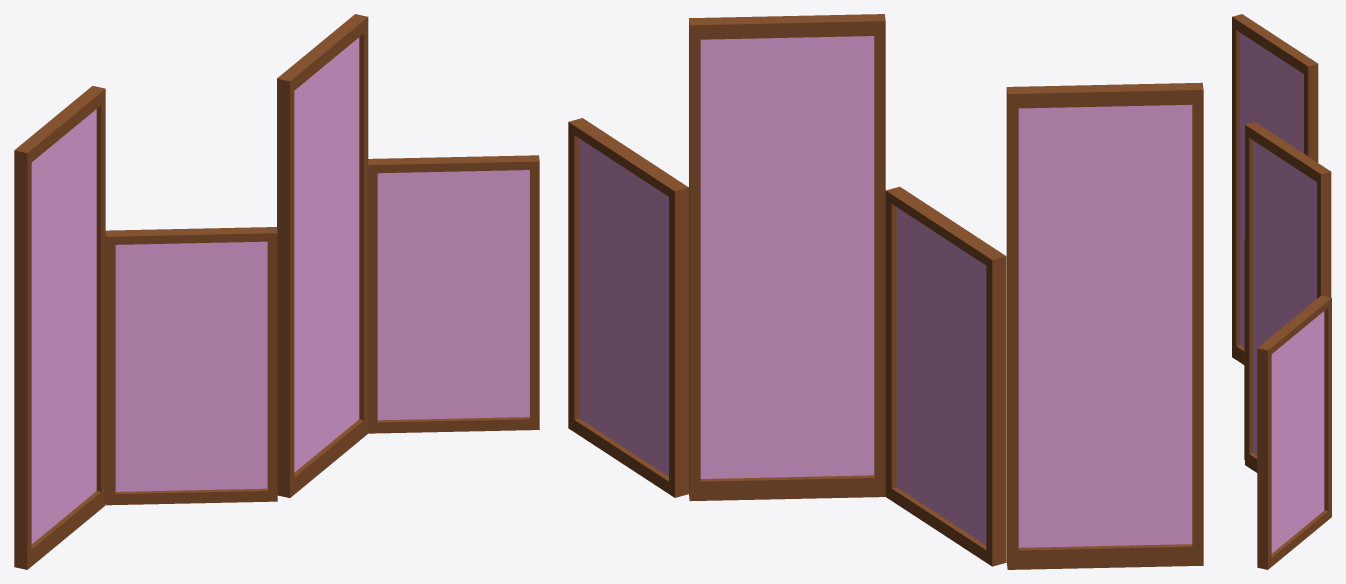
File: Biombo.fbx
The picture shows the model from 3 angles, left to right: view 1: azimuth 30°, elevation 25°; view 2: azimuth 150°, elevation 25°; view 3: azimuth 270°, elevation 25°; orthographic projection. The views are drawn at different scales.
Visible parts, largest first — view 1: Dibujo3; view 2: Dibujo3; view 3: Dibujo3.
Boxes of the visible parts, x1,y1,x2,y2 form: Dibujo3: [14, 14, 539, 569]; Dibujo3: [568, 14, 1203, 569]; Dibujo3: [1232, 14, 1331, 569].
Bounding box in the file's own units: 409 × 301 × 80.06.
